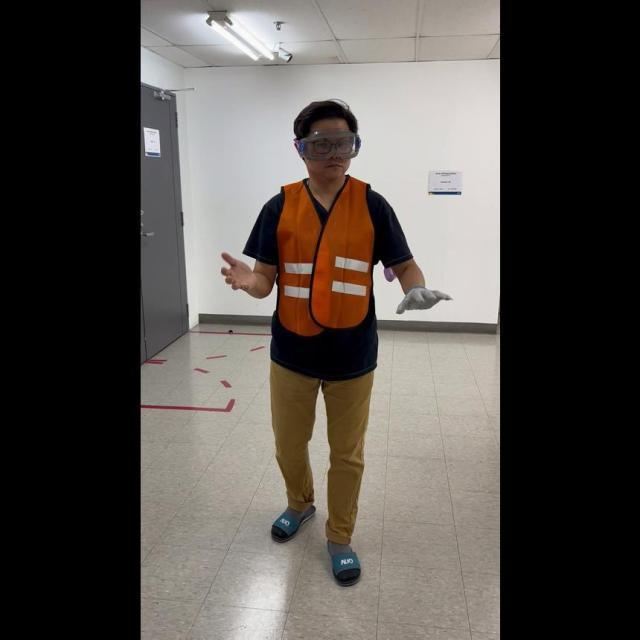bare_hand: (217, 244, 257, 293)
gloved_hand: (391, 279, 453, 316)
